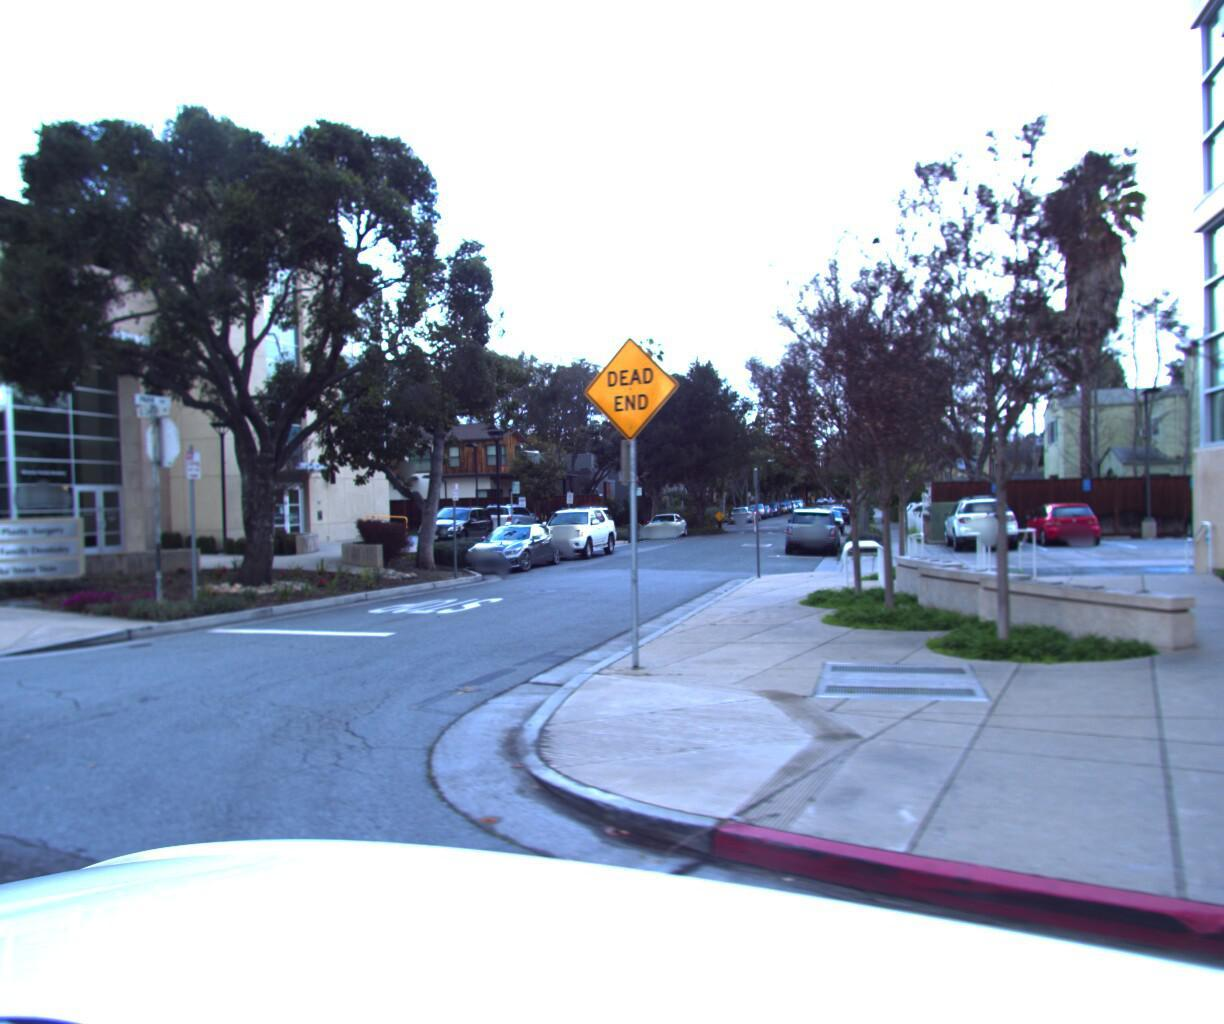car: (460, 519, 563, 576), (528, 503, 620, 562), (941, 490, 1024, 552), (1019, 498, 1106, 548), (414, 502, 497, 547), (783, 503, 837, 557), (899, 499, 979, 531), (478, 499, 543, 536), (642, 509, 688, 537), (731, 503, 756, 520)
